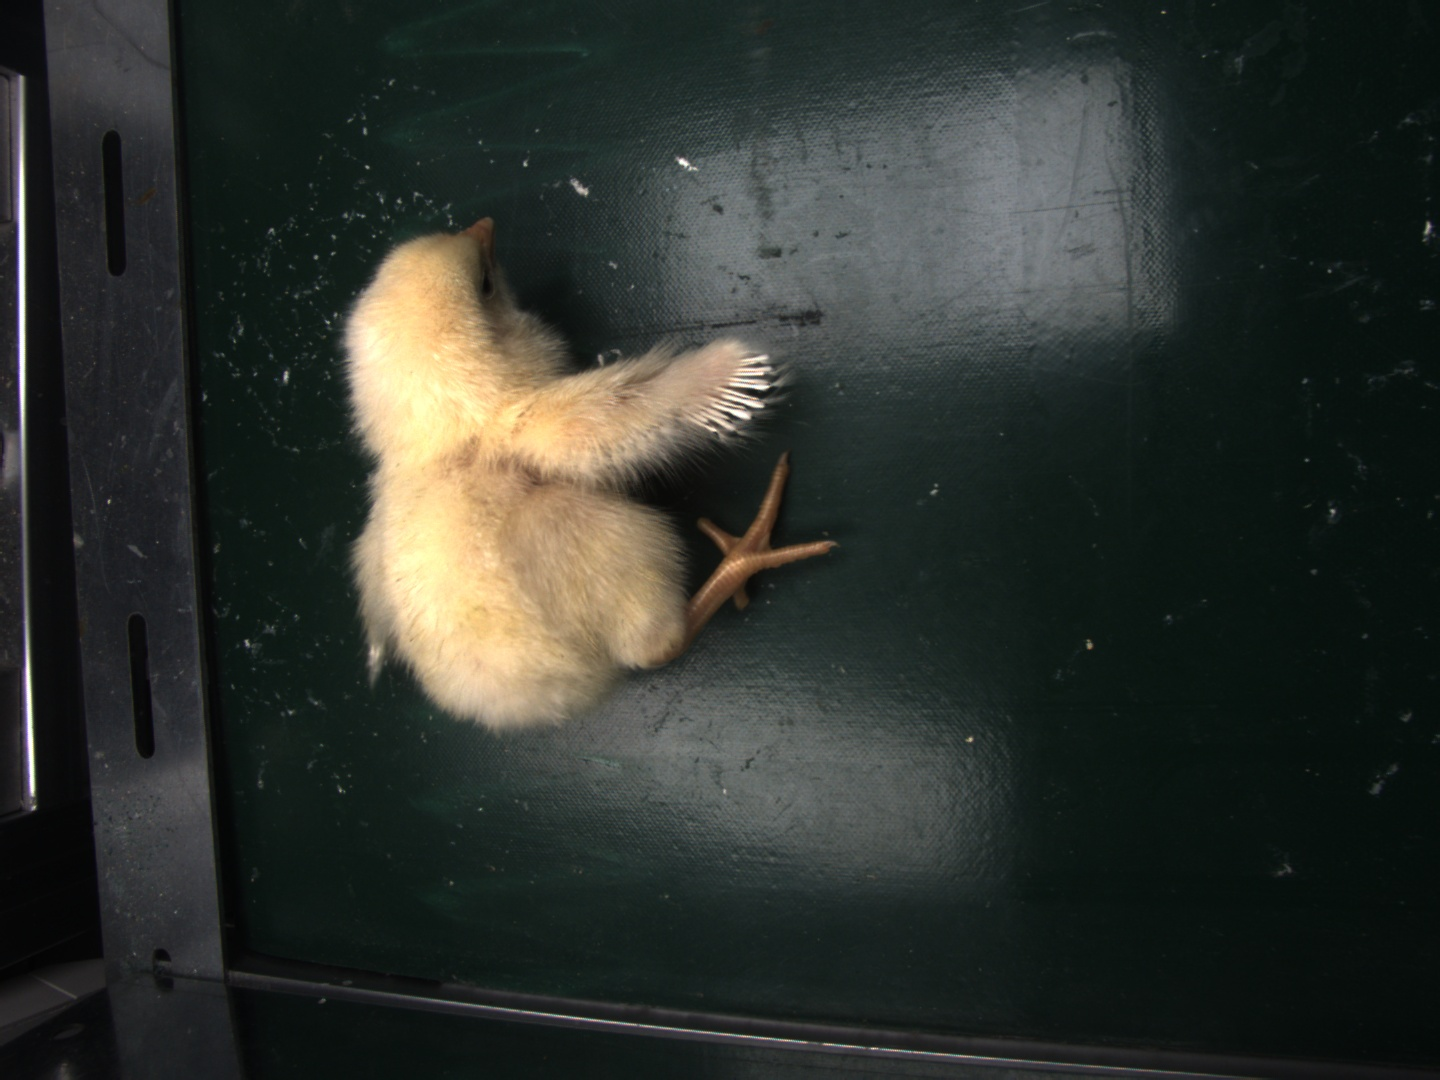male: (691, 351, 776, 434)
